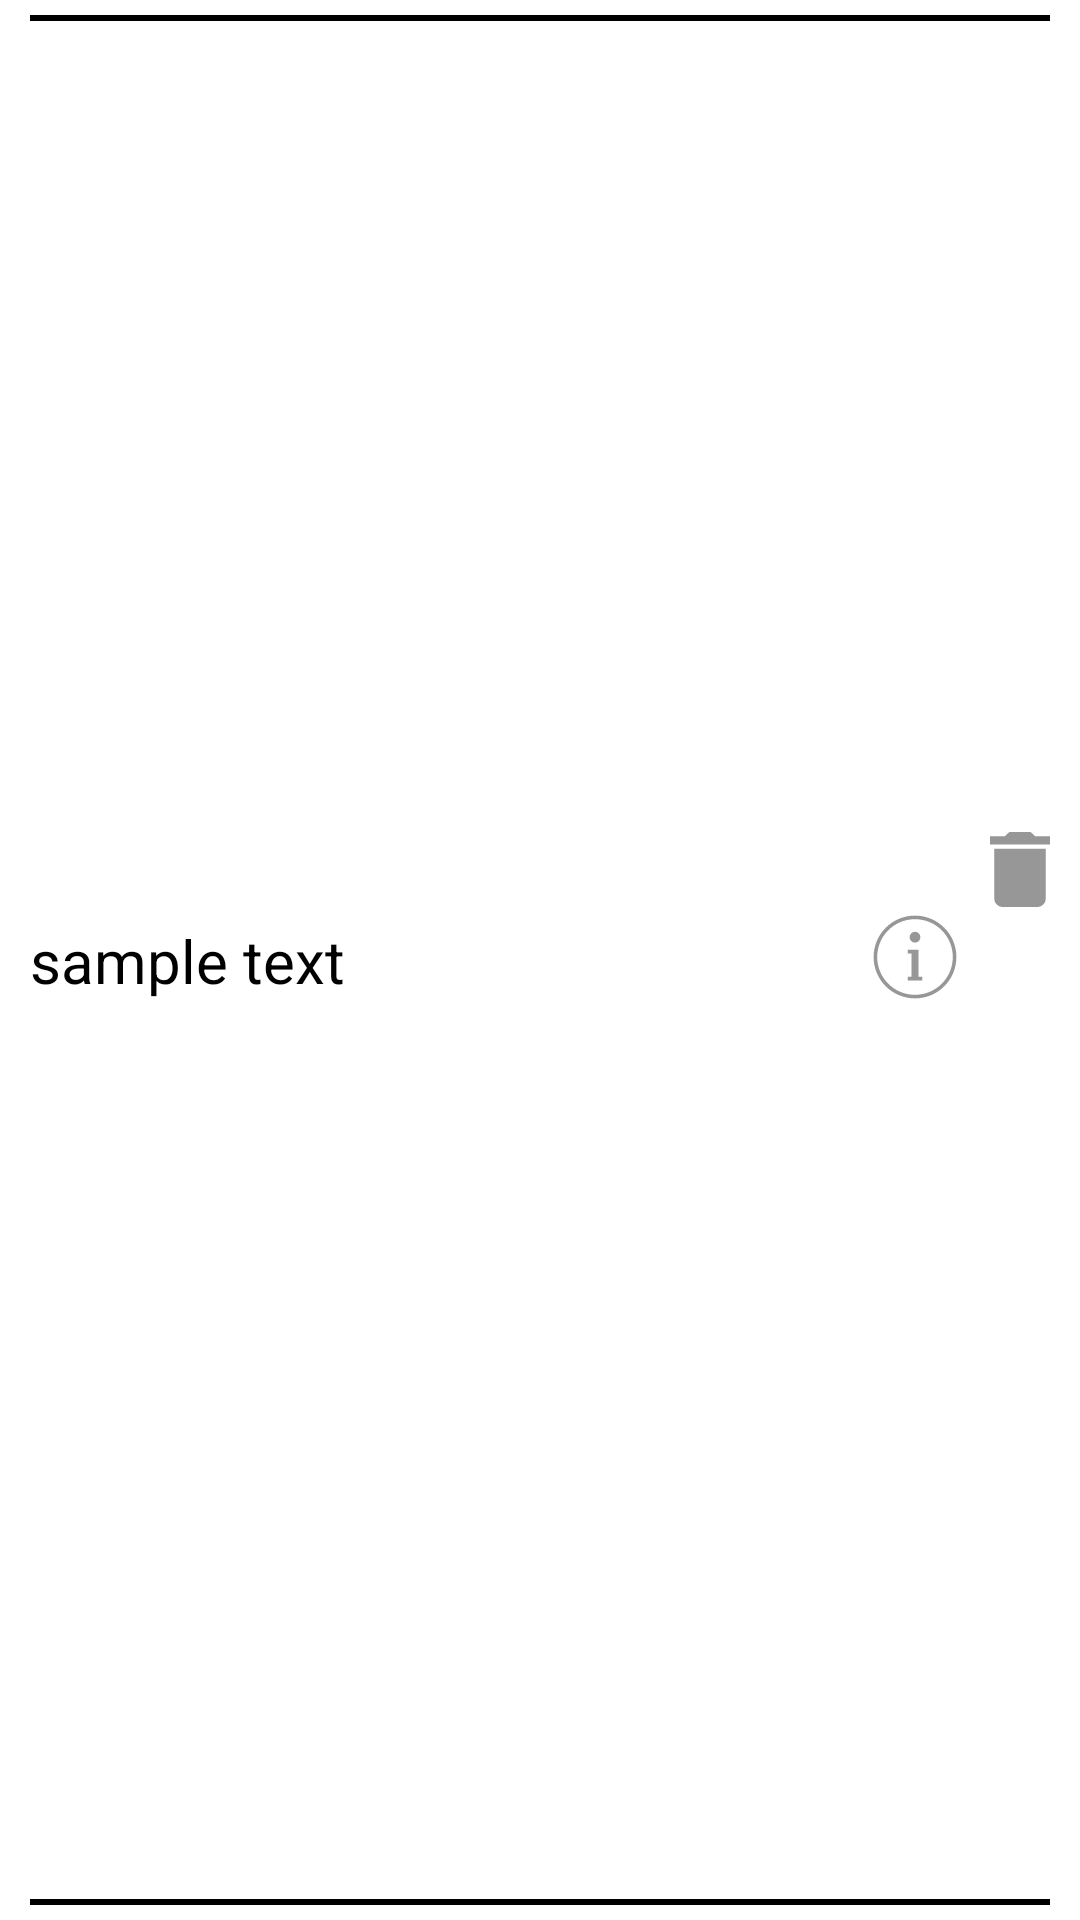

Locate icon controls on the screen. Image size 1080×1920, boxes as (x1, y1, x2, y2).
info: (873, 915, 957, 999)
trash: (990, 832, 1050, 907)
